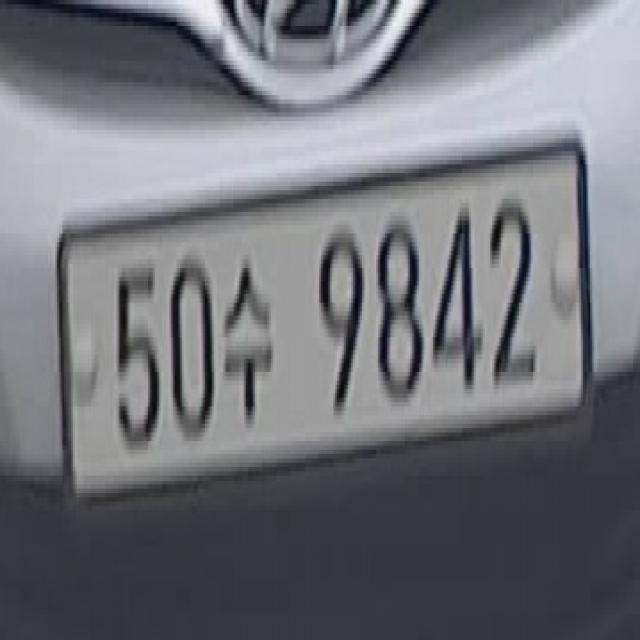0: (167, 237, 217, 467)
2: (489, 192, 539, 392)
4: (434, 194, 486, 407)
5: (108, 243, 162, 463)
8: (376, 205, 424, 418)
9: (314, 212, 366, 448)
license_plate: (39, 103, 603, 577)
su: (222, 242, 276, 454)
